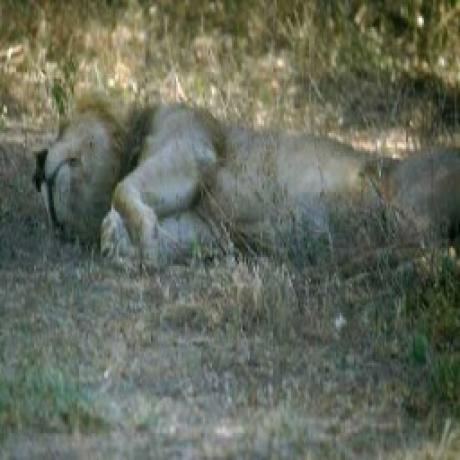Lion: (30, 95, 460, 273)
